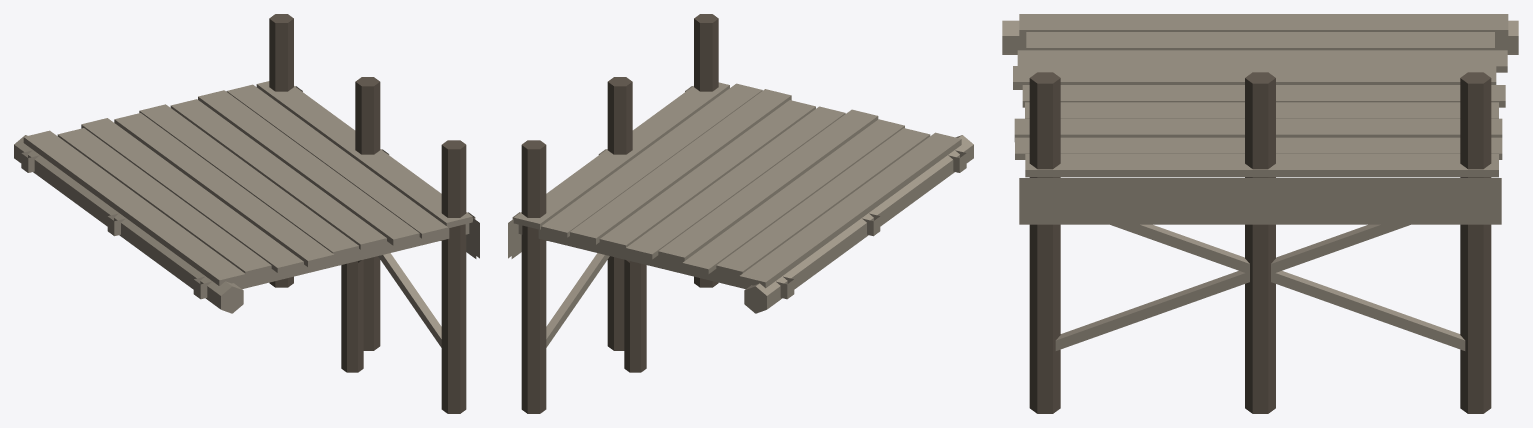
Rendered from landing_stage.glb.
3 views of the same model, side by side, from view 1: azimuth 30°, elevation 25°; view 2: azimuth 150°, elevation 25°; view 3: azimuth 270°, elevation 25° (orthographic). The views are drawn at different scales.
Parts seen in each view (by area): view 1: landing_stage_lod0; view 2: landing_stage_lod0; view 3: landing_stage_lod0.
Boxes of the visible parts, left/top/right/bottom form: landing_stage_lod0: left=14, top=14, right=479, bottom=413; landing_stage_lod0: left=508, top=14, right=973, bottom=413; landing_stage_lod0: left=1002, top=14, right=1518, bottom=413.
Size of what is drawn, in the model's own units: 2.3 by 2.12 by 3.
